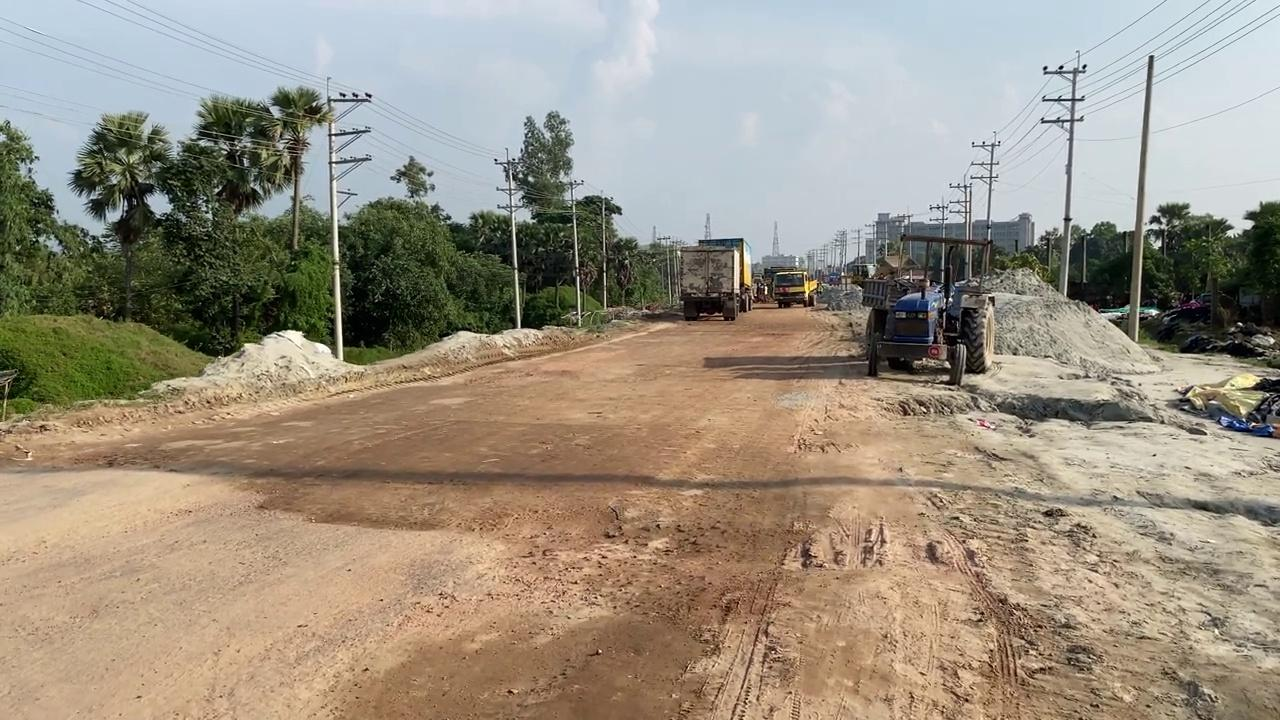Garbage: (1175, 371, 1279, 436)
Pole: (1127, 54, 1154, 342), (325, 76, 343, 360)
Traffic-sign: (175, 92, 288, 352), (66, 108, 174, 322), (260, 84, 335, 251)
Tree: (860, 232, 996, 386), (677, 237, 753, 321), (765, 266, 818, 307), (842, 257, 876, 289)
